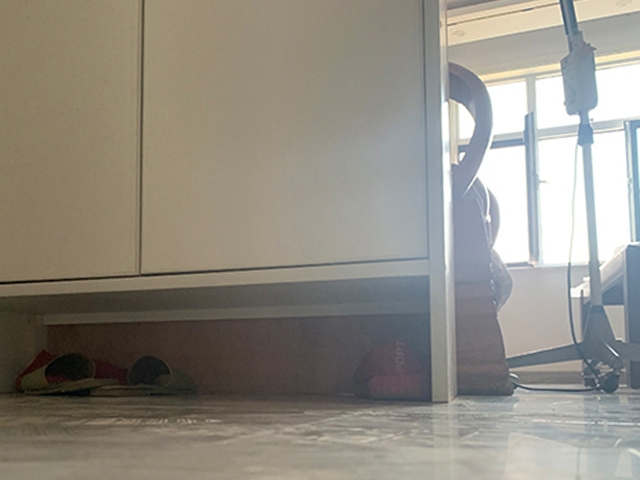cabinet: (1, 1, 457, 404)
slippers: (95, 353, 202, 398), (20, 352, 104, 399)
wire: (511, 349, 609, 394)
